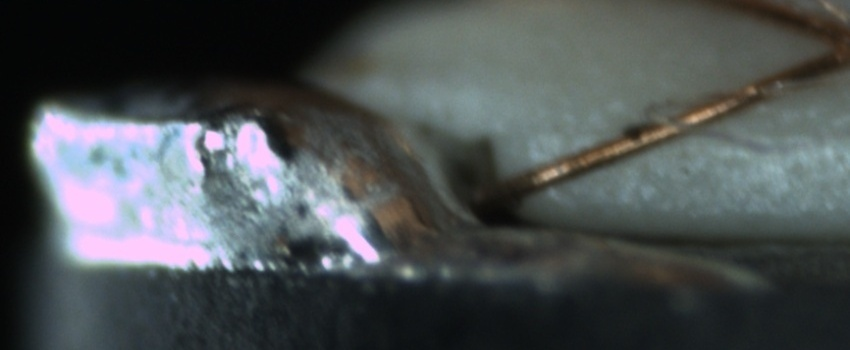CL: (799, 12, 849, 79)
DL: (534, 105, 850, 170)
